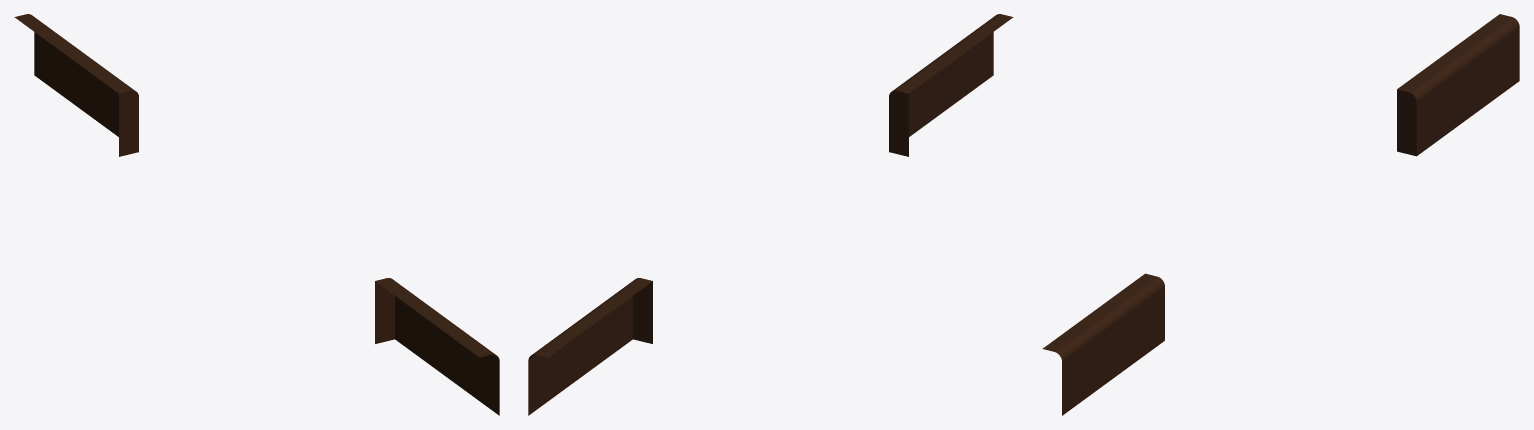
Rendered from Trim_Small_Door.fbx.
3 renders of one model, left to right at view 1: azimuth 30°, elevation 25°; view 2: azimuth 150°, elevation 25°; view 3: azimuth 330°, elevation 25°, orthographic.
Visible parts, largest first — view 1: Trim_Small_Door; view 2: Trim_Small_Door; view 3: Trim_Small_Door.
Boxes of the visible parts, x1=… form: Trim_Small_Door: x1=14, y1=14, x2=499, y2=415; Trim_Small_Door: x1=528, y1=14, x2=1013, y2=415; Trim_Small_Door: x1=1042, y1=14, x2=1519, y2=415.
Bounding box in the file's own units: 5 × 15 × 200.
